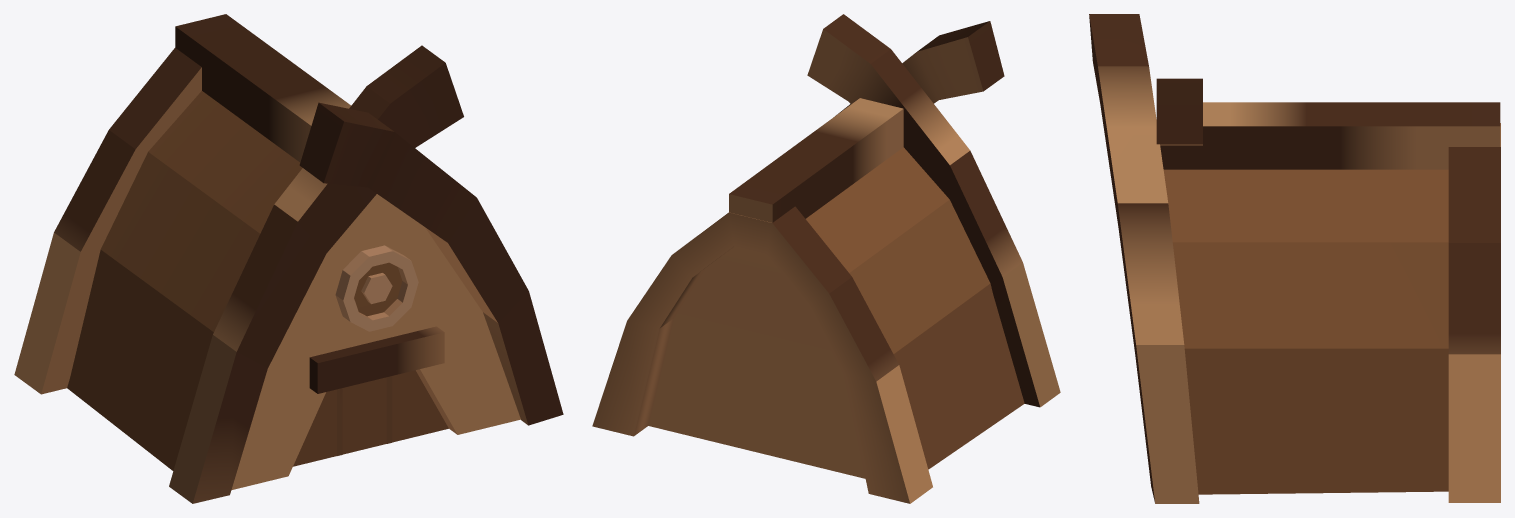
Rendered from Building_ArmyCamp_Lv1.fbx.
The picture shows the model from 3 angles, left to right: view 1: azimuth 30°, elevation 25°; view 2: azimuth 150°, elevation 25°; view 3: azimuth 270°, elevation 25°; orthographic projection. The views are drawn at different scales.
Parts seen in each view (by area): view 1: Building_ArmyCamp_Lv1; view 2: Building_ArmyCamp_Lv1; view 3: Building_ArmyCamp_Lv1.
Boxes of the visible parts, x1,y1,x2,y2 form: Building_ArmyCamp_Lv1: (14,14,563,503); Building_ArmyCamp_Lv1: (592,14,1060,503); Building_ArmyCamp_Lv1: (1089,14,1500,503).
Bounding box in the file's own units: 0.7523 × 0.7348 × 0.7409.
